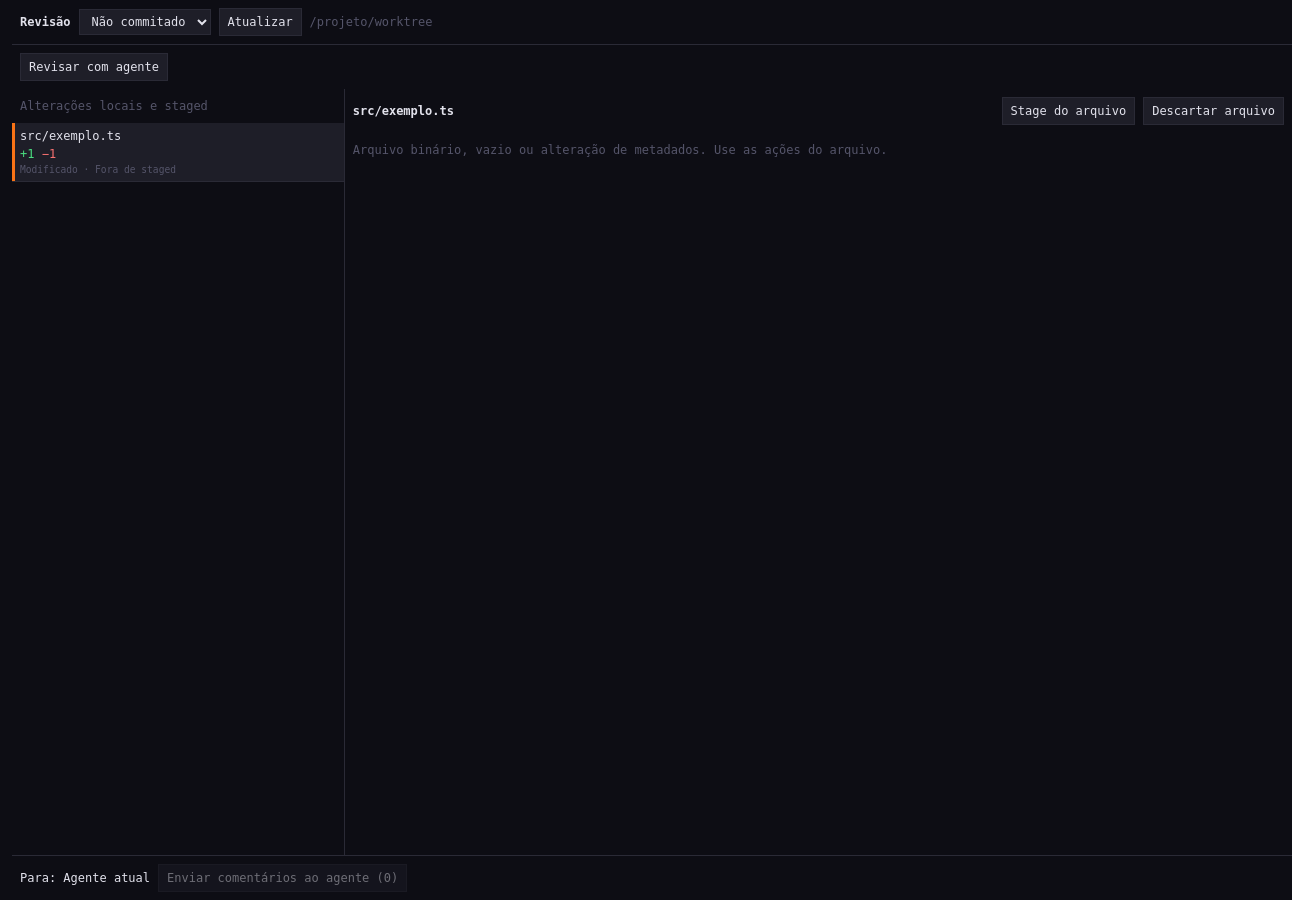
Test: mostra binário sem ações granulares e árvore limpa ao atualizar
Expected: the text "Arquivo binário, vazio" is shown, [353,143,887,157]
Click the button "Atualizar".
click(260, 22)  # box [219,8,302,36]
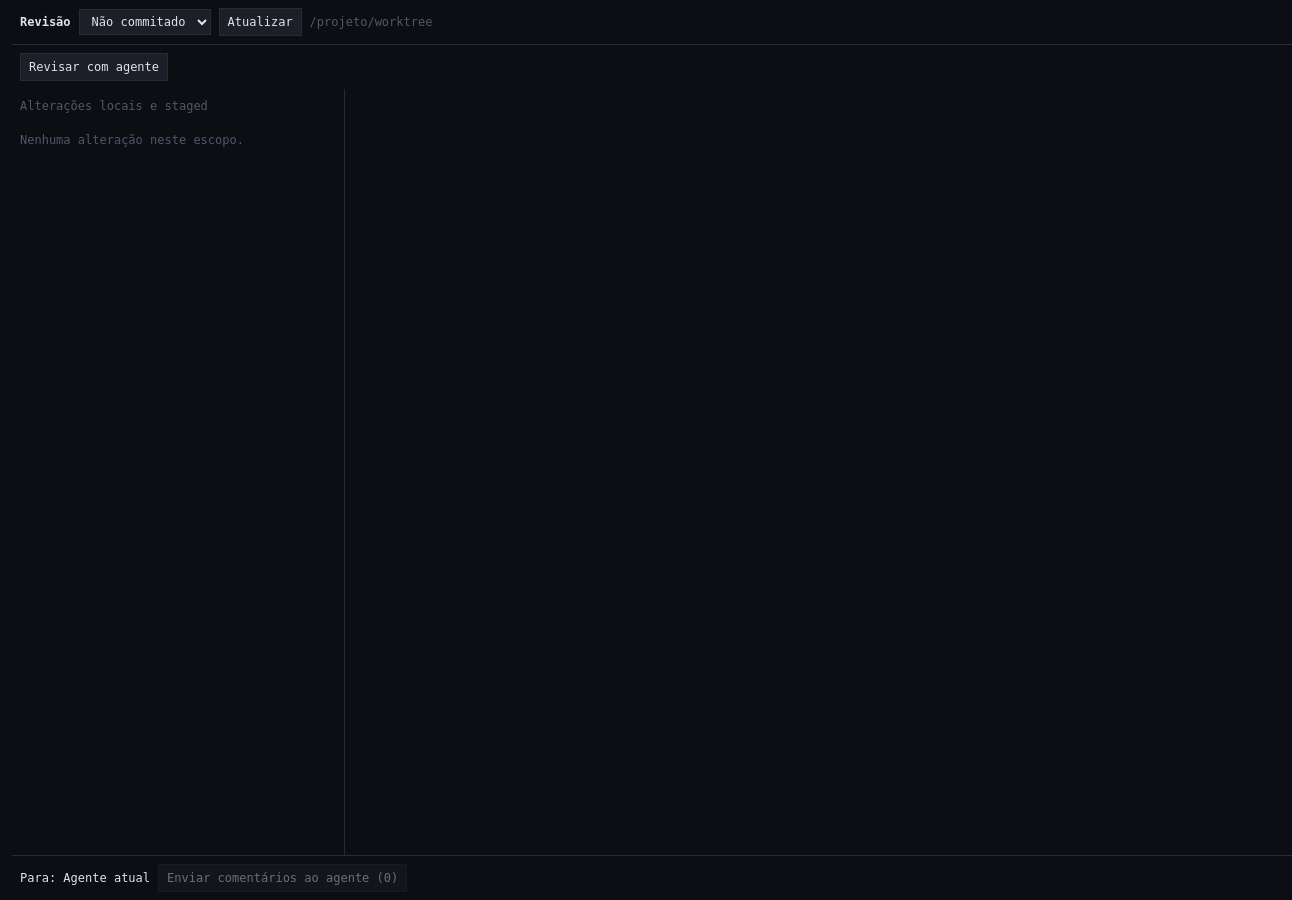
Now the text "Nenhuma alteração neste escopo." is shown, box [20,133,244,147]
